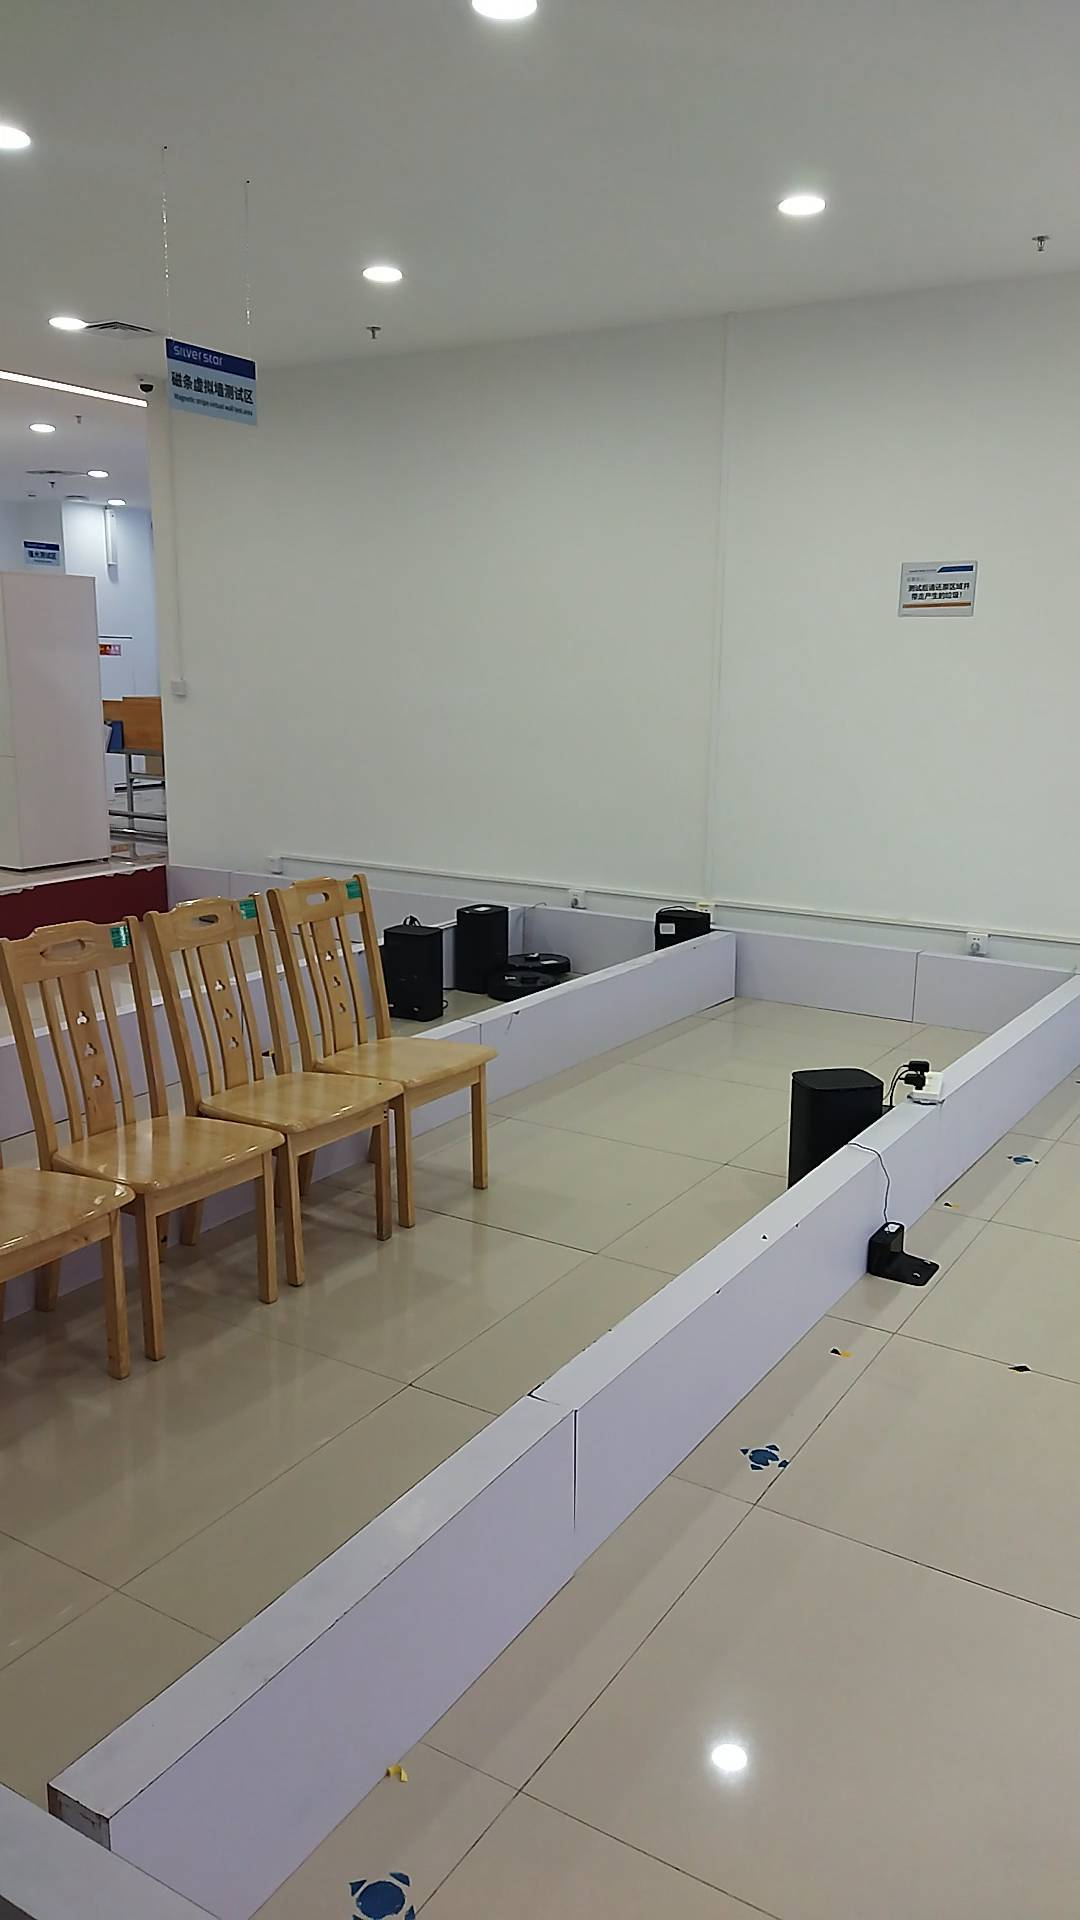dust collecting barrel: (789, 1065, 884, 1185), (380, 924, 444, 1015), (450, 906, 512, 997)
recharge seat: (868, 1221, 943, 1287)
